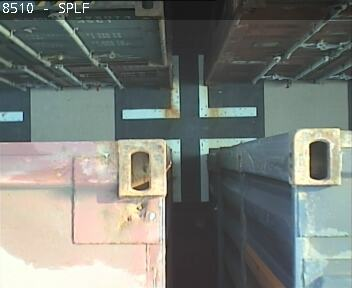groundmarker_1: (122, 55, 256, 119), (166, 137, 256, 201)
